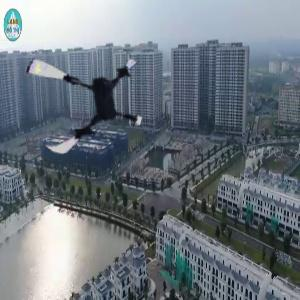drone: (21, 37, 146, 162)
